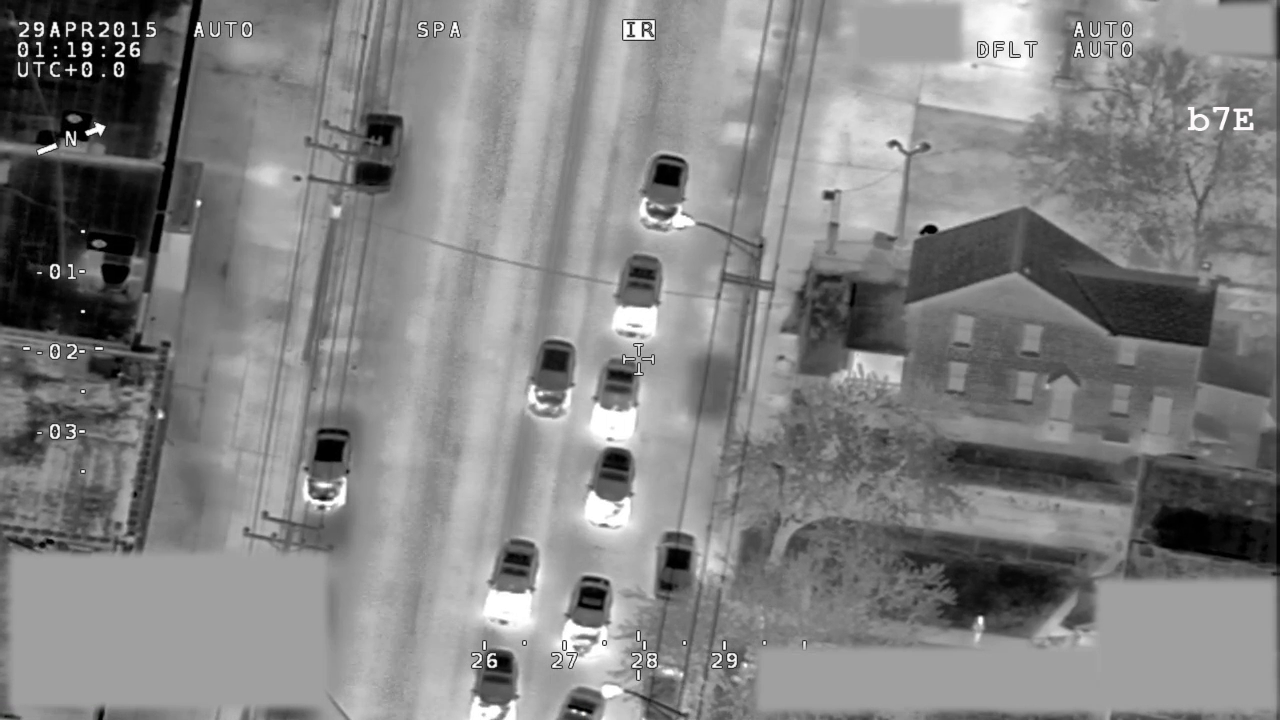vehicle: (484, 535, 545, 632), (610, 250, 665, 347), (303, 423, 357, 519), (562, 569, 616, 664), (524, 333, 578, 427), (590, 355, 646, 445), (351, 111, 406, 196), (586, 445, 637, 536), (466, 641, 522, 720), (638, 150, 688, 236), (651, 526, 700, 606), (555, 680, 607, 720)
